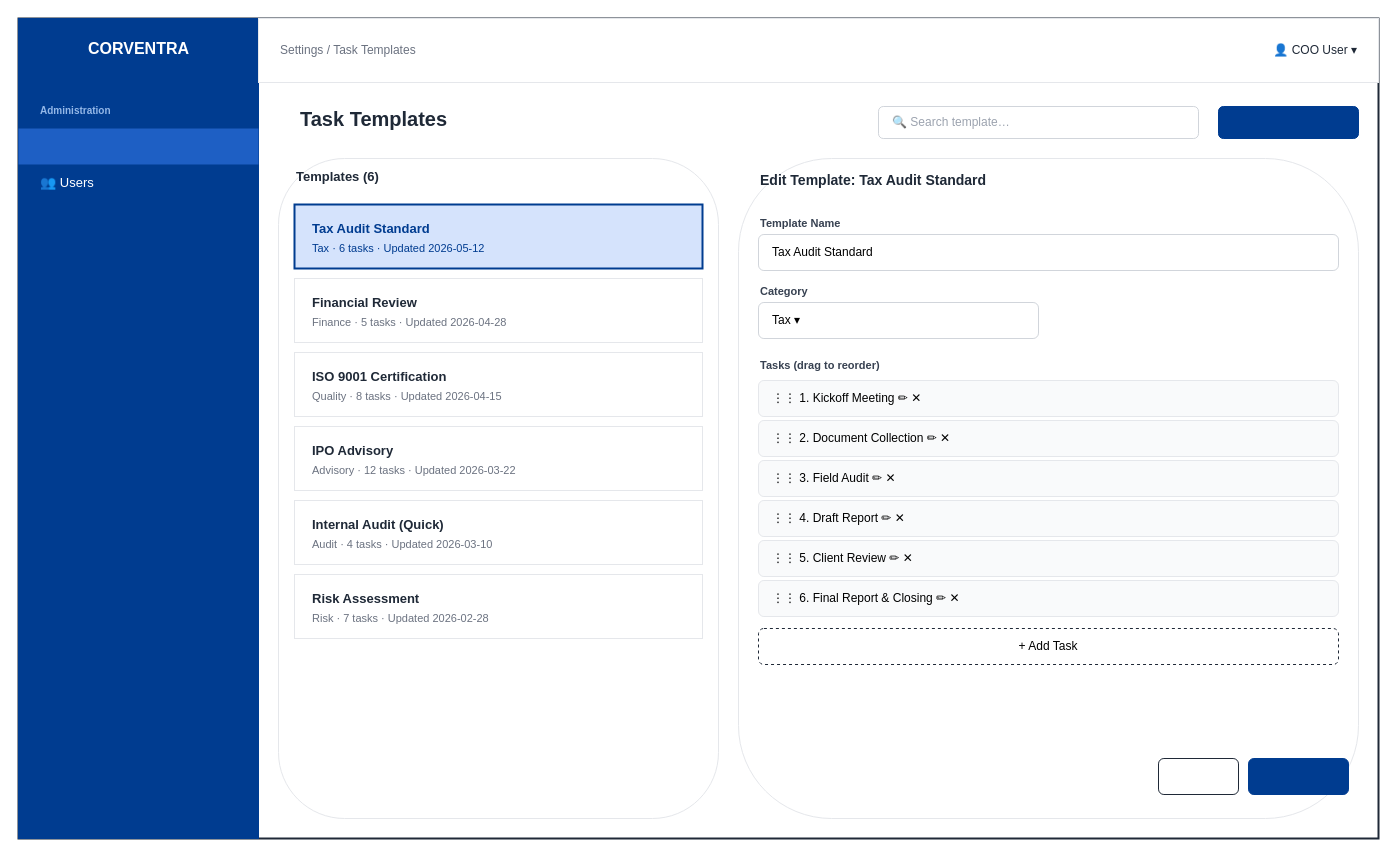
This 1396x856 diagram has some shape labels left out. Here are the shapes that lost their labels. From the top down, the centre of each, then its label:
At (1288,122): "+ New Template".
At (138,146): "📝 Task Templates".
At (1198,776): "Cancel".
At (1298,776): "💾 Save".
